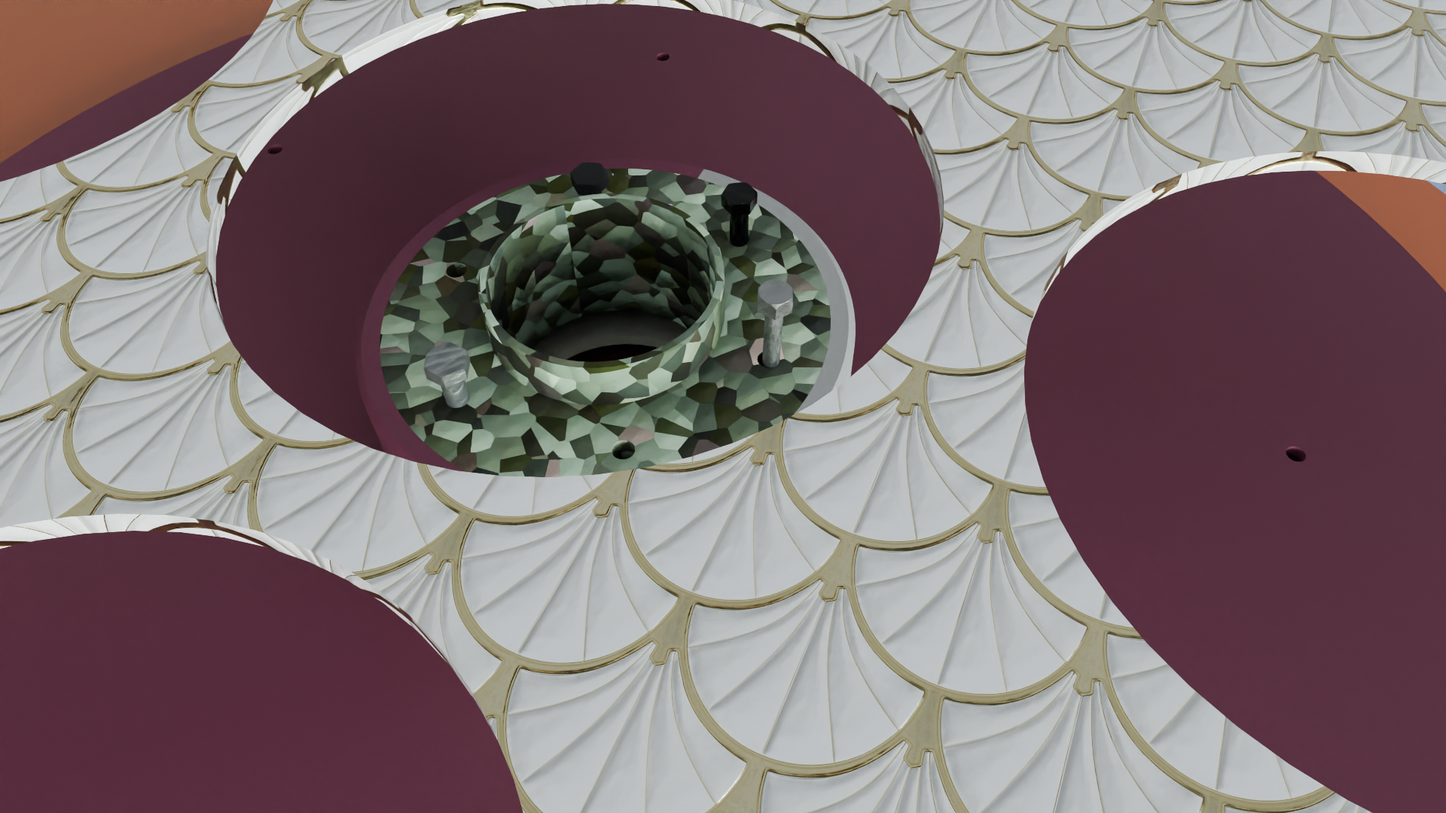bolt: (423, 342, 468, 378), (758, 279, 793, 309), (721, 182, 758, 206), (570, 163, 608, 185)
